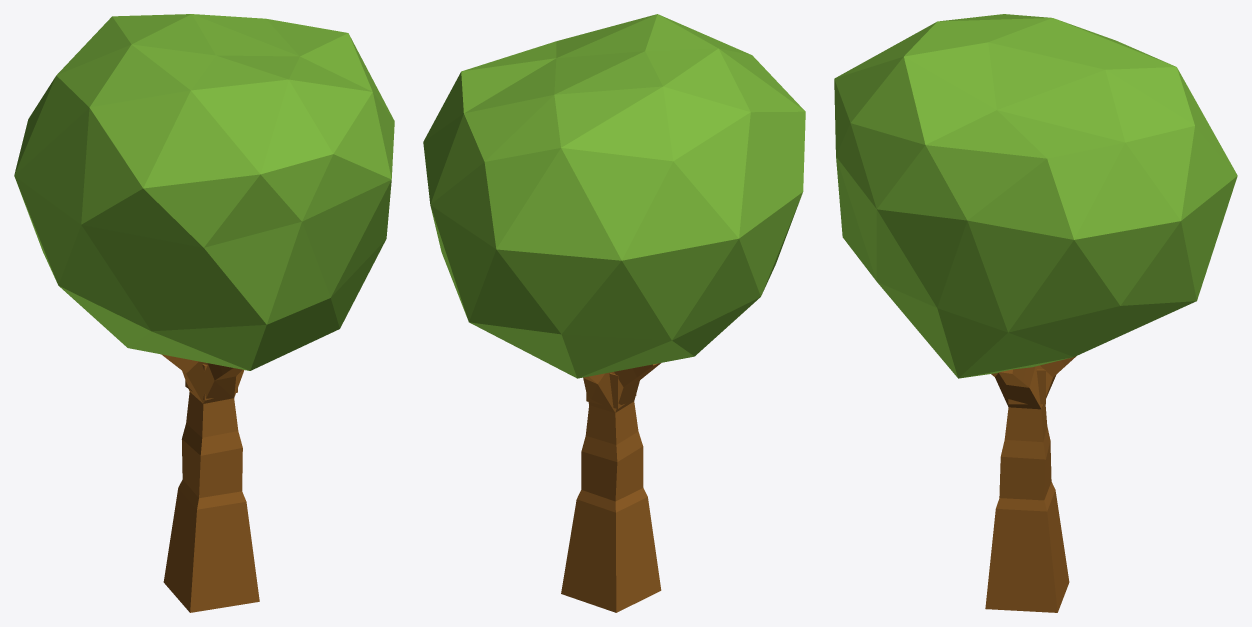
The model's file is LowPolySmallTree.fbx.
The picture shows the model from 3 angles, left to right: view 1: azimuth 30°, elevation 25°; view 2: azimuth 150°, elevation 25°; view 3: azimuth 270°, elevation 25°; orthographic projection. The views are drawn at different scales.
Parts seen in each view (by area): view 1: SmallTree; view 2: SmallTree; view 3: SmallTree.
Part boxes in pixels (x1,y1,x2,y2): SmallTree: [14, 14, 394, 612]; SmallTree: [423, 14, 805, 612]; SmallTree: [834, 14, 1237, 612].
Bounding box in the file's own units: 509 × 799 × 534.
